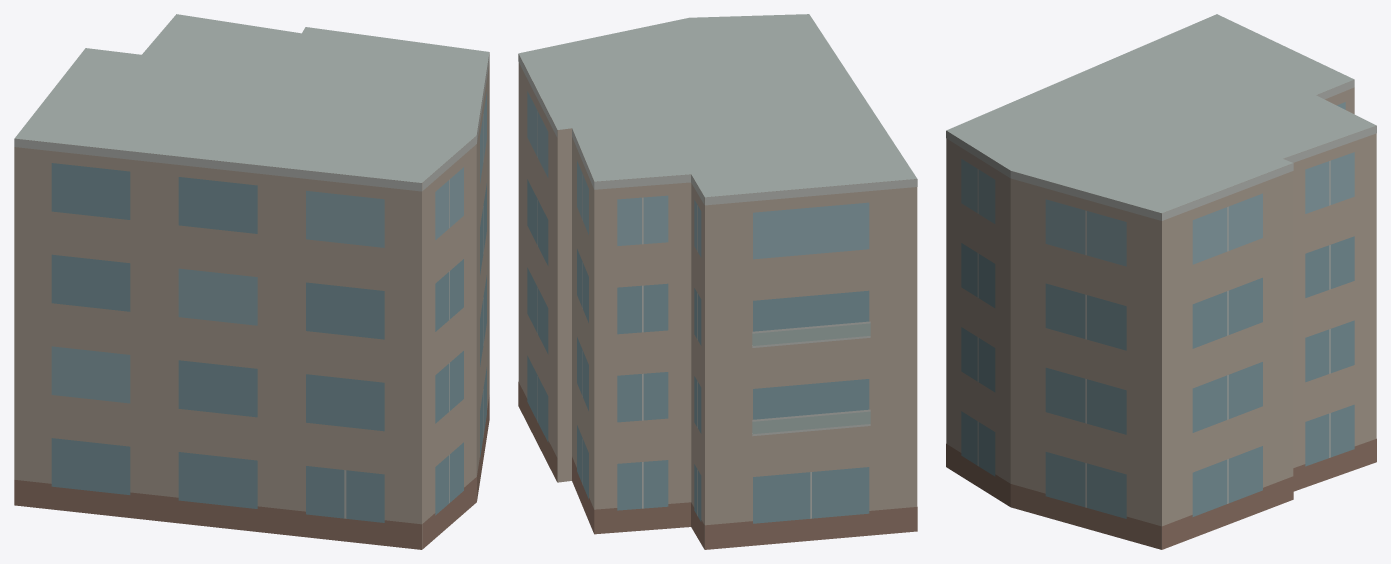
Rendered from survey-upis-32462529.glb.
3 views of the same model, side by side, from view 1: azimuth 30°, elevation 25°; view 2: azimuth 150°, elevation 25°; view 3: azimuth 270°, elevation 25° (orthographic). The views are drawn at different scales.
Visible parts, largest first — view 1: survey-upis-32462529.tmp; view 2: survey-upis-32462529.tmp; view 3: survey-upis-32462529.tmp.
Boxes of the visible parts, x1=… form: survey-upis-32462529.tmp: x1=14, y1=14, x2=489, y2=549; survey-upis-32462529.tmp: x1=518, y1=14, x2=917, y2=549; survey-upis-32462529.tmp: x1=946, y1=14, x2=1376, y2=549.
Size of the model in its own units: 13.45 by 10.58 by 12.27.
